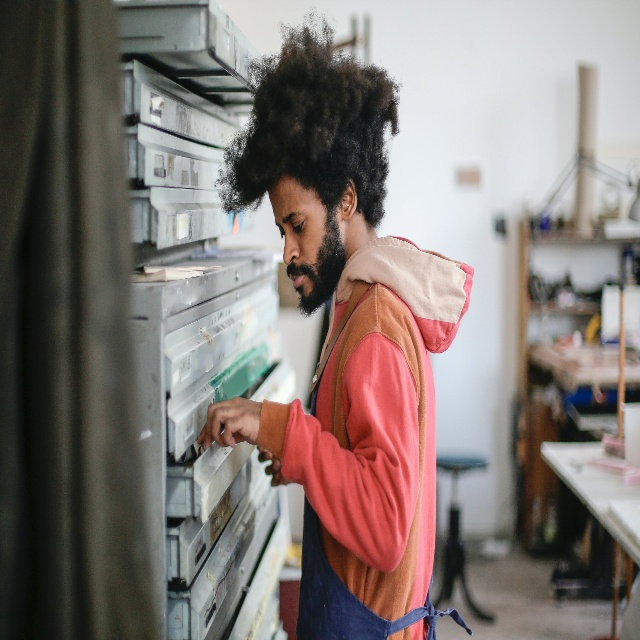Sin_guantes: (197, 390, 264, 449), (256, 444, 290, 487)
